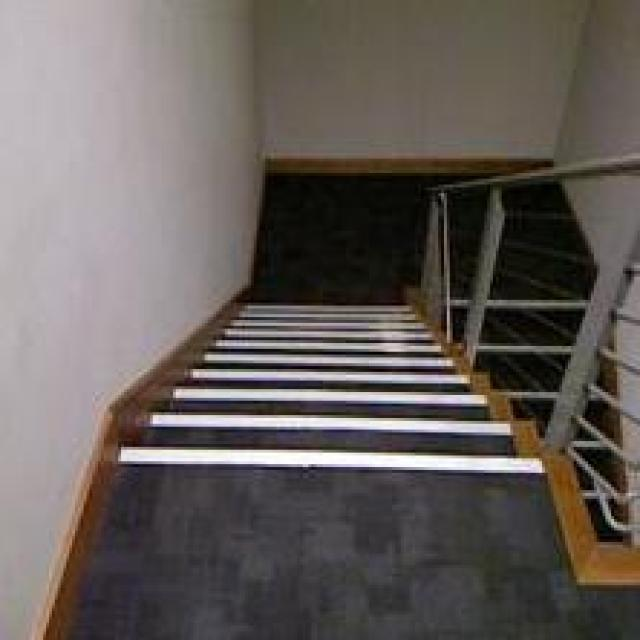Stairs: (43, 193, 640, 626)
